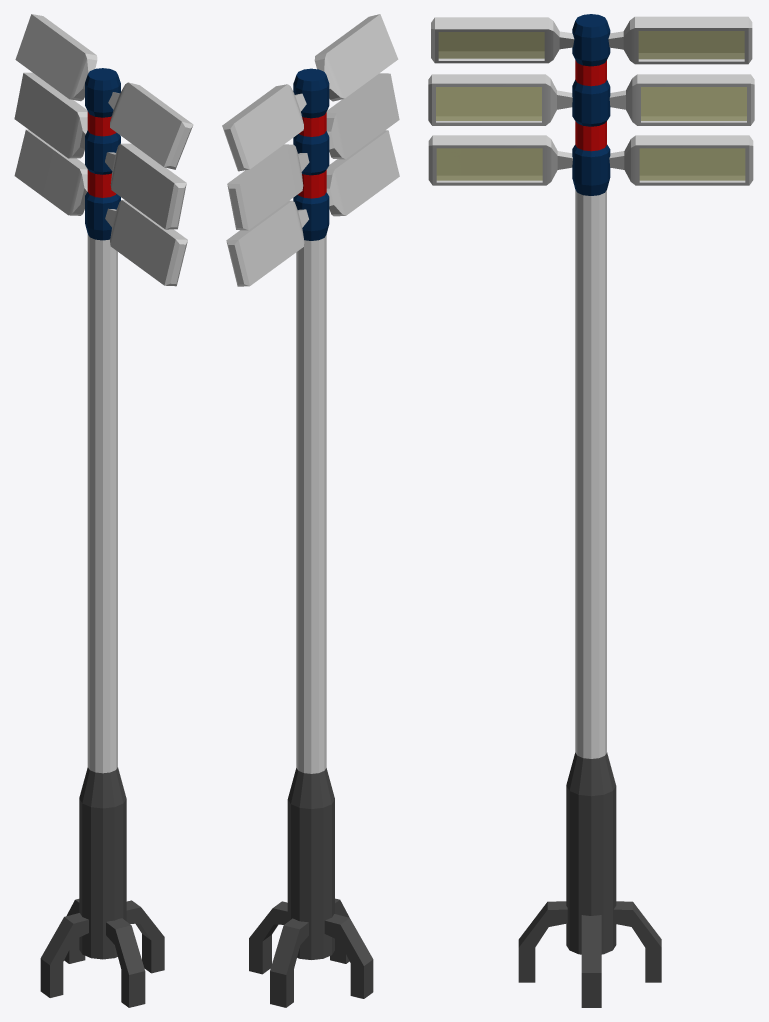
The model's file is Tall_Lamp.fbx.
3 views of the same model, side by side, from view 1: azimuth 30°, elevation 25°; view 2: azimuth 150°, elevation 25°; view 3: azimuth 270°, elevation 25° (orthographic). The views are drawn at different scales.
Visible parts, largest first — view 1: Tall_Lamp, pCube80, pCube79, pCube77, pCube81, pCube76, pCube78, pCube82, pCube85, pCube83, pCube84; view 2: Tall_Lamp, pCube77, pCube76, pCube80, pCube78, pCube79, pCube81, pCube84, pCube85, pCube83, pCube82; view 3: Tall_Lamp, pCube76, pCube79, pCube81, pCube78, pCube77, pCube80, pCube83, pCube82, pCube84.
Part boxes in pixels (x1,y1,x2,y2): Tall_Lamp: (79, 68, 126, 959); pCube80: (108, 82, 193, 169); pCube79: (105, 143, 186, 229); pCube77: (15, 14, 97, 101); pCube81: (105, 200, 187, 286); pCube76: (14, 72, 87, 158); pCube78: (14, 129, 87, 215); pCube82: (106, 918, 145, 1007); pCube85: (40, 913, 88, 997); pCube83: (126, 900, 164, 973); pCube84: (64, 899, 85, 963); Tall_Lamp: (287, 68, 334, 959); pCube77: (222, 84, 306, 171); pCube76: (227, 144, 309, 230); pCube80: (314, 14, 398, 101); pCube78: (226, 200, 308, 286); pCube79: (326, 73, 399, 159); pCube81: (326, 130, 399, 216); pCube84: (270, 918, 308, 1007); pCube85: (324, 914, 373, 998); pCube83: (249, 901, 287, 974); pCube82: (330, 898, 349, 963); Tall_Lamp: (566, 14, 616, 954); pCube76: (609, 74, 754, 125); pCube79: (428, 74, 572, 125); pCube81: (428, 135, 572, 185); pCube78: (609, 135, 753, 185); pCube77: (608, 16, 752, 64); pCube80: (431, 17, 574, 63); pCube83: (581, 915, 601, 1007); pCube82: (518, 901, 567, 982); pCube84: (613, 901, 661, 982).
Bounding box in the file's own units: 0.5671 × 1.32 × 4.3.
